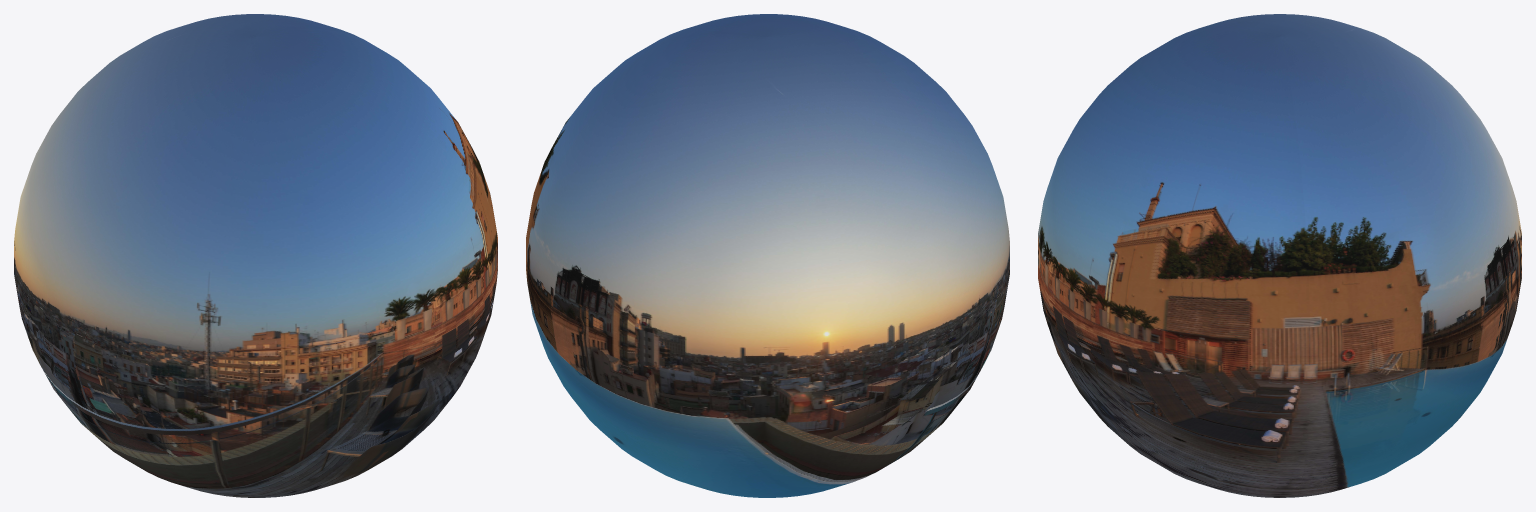
Rendered from barcelona_rooftop.glb.
3 views of the same model, side by side, from view 1: azimuth 30°, elevation 25°; view 2: azimuth 150°, elevation 25°; view 3: azimuth 270°, elevation 25° (orthographic).
Visible parts, largest first — view 1: PanoSphere_outside; view 2: PanoSphere_outside; view 3: PanoSphere_outside.
Boxes of the visible parts, x1,y1,x2,y2 form: PanoSphere_outside: (14,14,497,497); PanoSphere_outside: (526,14,1009,497); PanoSphere_outside: (1038,14,1521,497).
Bounding box in the file's own units: 2.5 × 2.5 × 2.5.
Materials: 1 (1 with a texture image).
